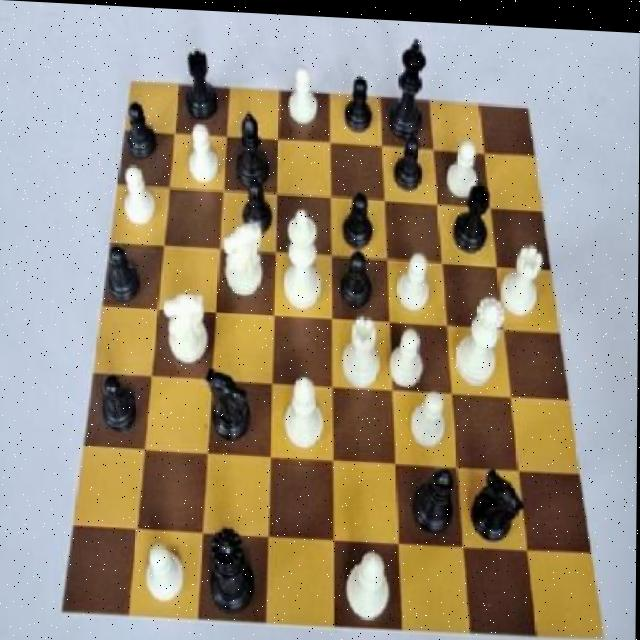bishop: (408, 460, 461, 541), (228, 100, 276, 189)
black-bishop: (381, 25, 427, 142)
black-king: (464, 459, 528, 549), (200, 363, 252, 448)
black-knight: (103, 235, 146, 313), (97, 366, 140, 443), (118, 90, 161, 163), (334, 240, 378, 309), (339, 179, 381, 249), (236, 171, 278, 240), (336, 61, 373, 137), (393, 128, 429, 195)
black-pawn: (203, 519, 258, 621)
black-queen: (449, 177, 494, 259), (183, 37, 220, 124)
black-rook: (343, 542, 396, 631), (280, 373, 330, 460)
white-bishop: (274, 196, 325, 316)
white-king: (155, 277, 214, 375), (217, 208, 270, 304)
white-knight: (135, 527, 188, 613), (178, 112, 224, 191), (389, 243, 439, 315), (116, 160, 162, 237), (439, 127, 485, 202), (280, 61, 324, 132), (388, 317, 426, 394), (407, 383, 450, 451)
white-pawn: (449, 284, 511, 390)
white-queen: (496, 234, 548, 320), (334, 307, 386, 392)
